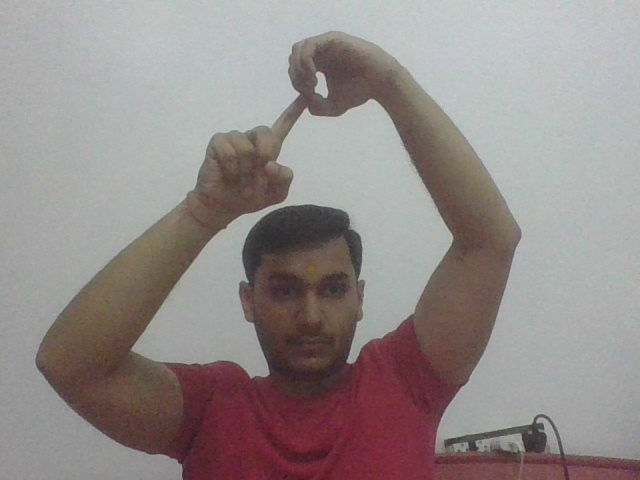Q: (238, 27, 363, 185)
